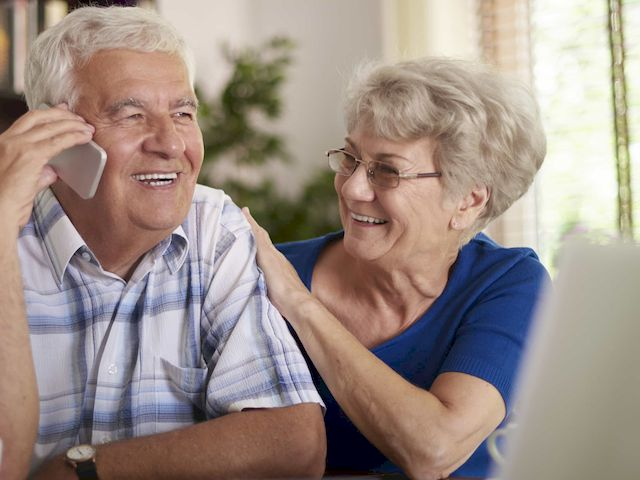phone: (29, 103, 104, 194)
talk: (2, 88, 206, 242)
